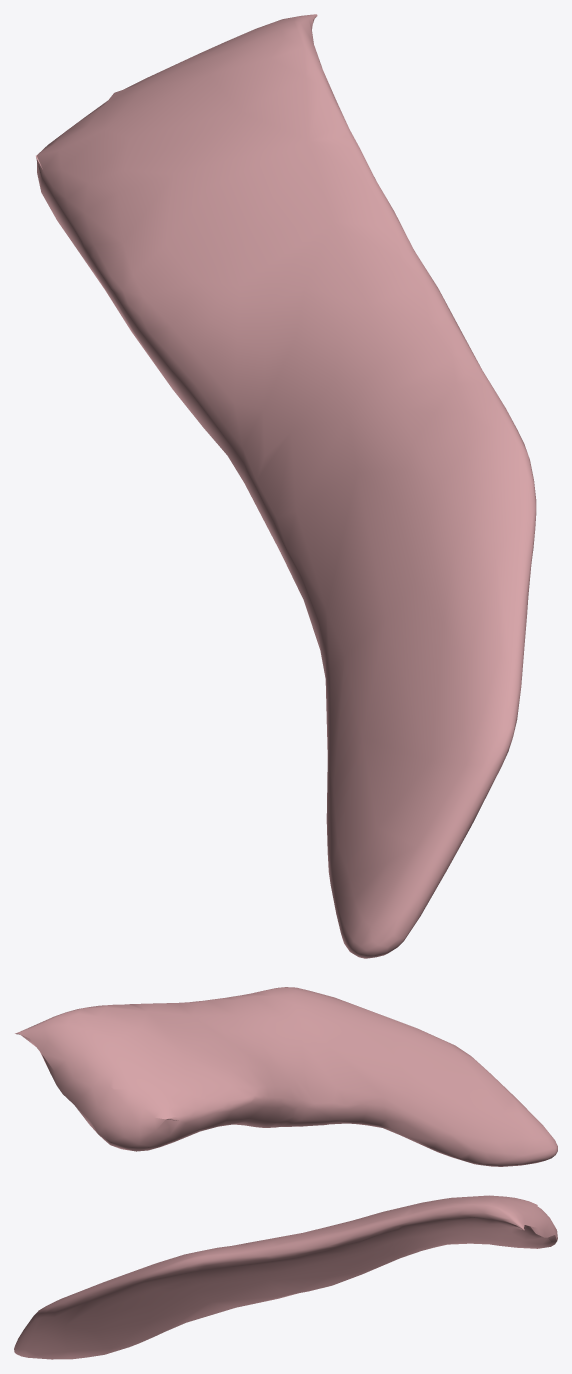
The model's file is fma275281_mm3771.glb.
3 views of the same model, one above another, from view 1: azimuth 30°, elevation 25°; view 2: azimuth 150°, elevation 25°; view 3: azimuth 270°, elevation 25° (orthographic). The views are drawn at different scales.
Visible parts, largest first — view 1: FMA275281_MM3771; view 2: FMA275281_MM3771; view 3: FMA275281_MM3771.
Boxes of the visible parts, box(x1,y1,x2,y2) form: FMA275281_MM3771: box(36, 14, 536, 958); FMA275281_MM3771: box(15, 987, 557, 1166); FMA275281_MM3771: box(14, 1195, 557, 1359).
Bounding box in the file's own units: 0.0315 × 0.0323 × 0.0644.
